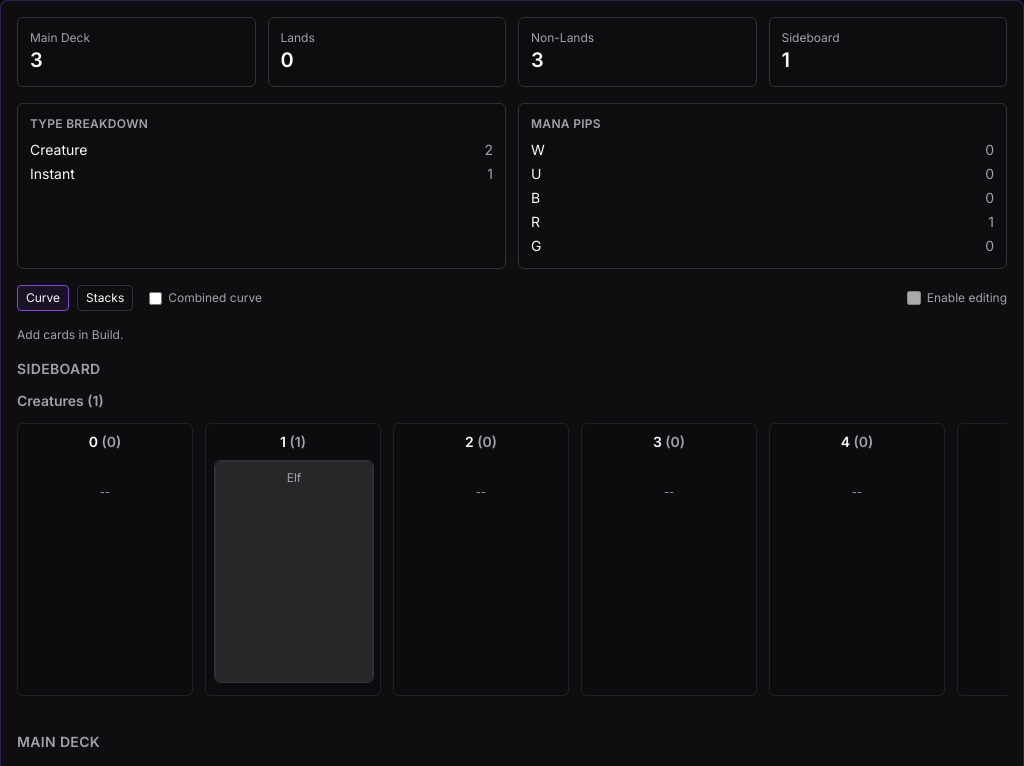
DeckAnalyticsView › hides_combined_curve_toggle_on_stacks_view
Click the button "Stacks".
click(105, 298)  # box [77,285,133,311]
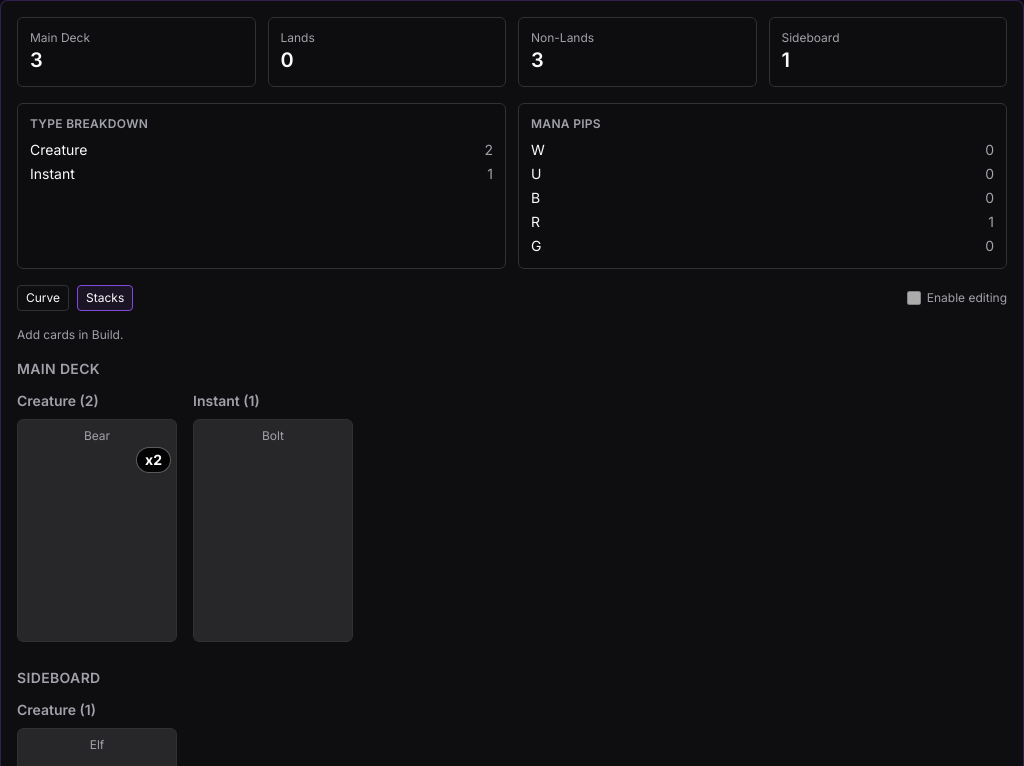
Check: the checkbox with test id "deck-analytics-combined-curve" is gone
